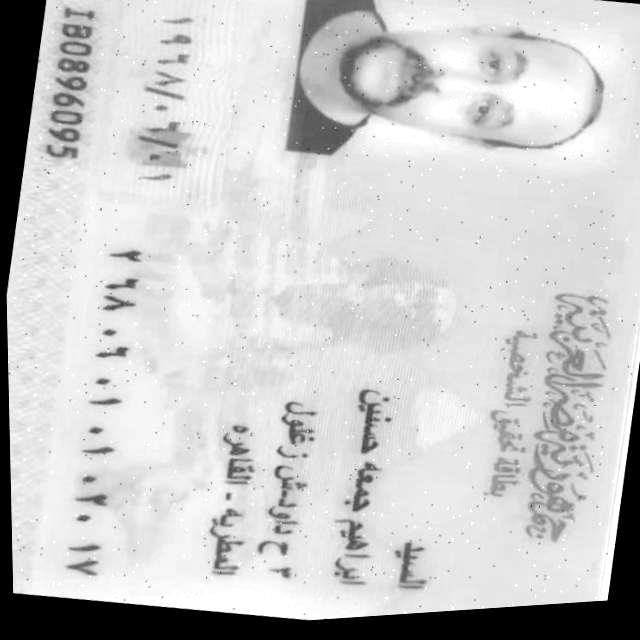front: (7, 0, 639, 618)
